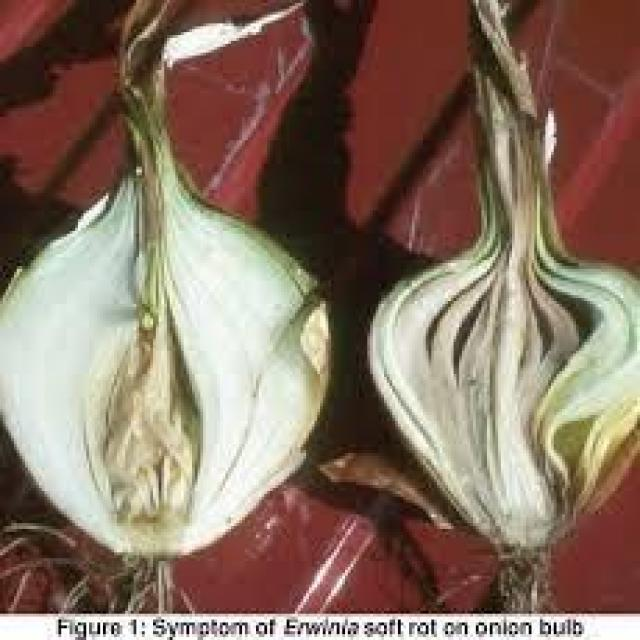Onion: (2, 0, 325, 590), (361, 0, 640, 608)
